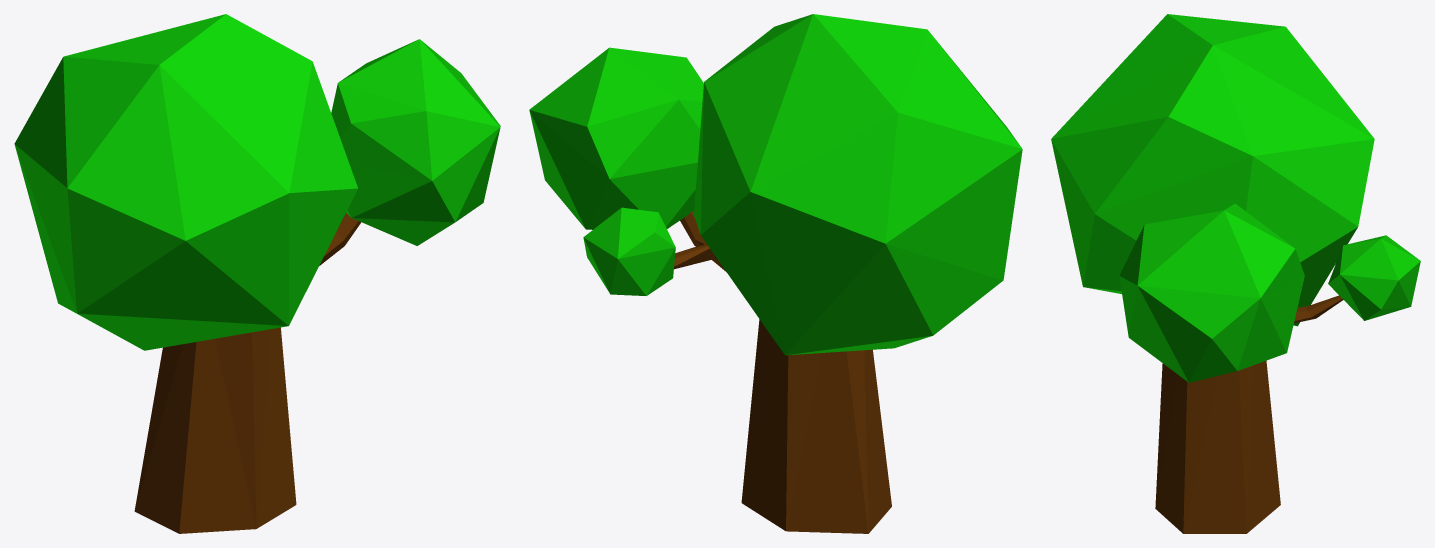
File: TreeModel1.fbx
The picture shows the model from 3 angles, left to right: view 1: azimuth 30°, elevation 25°; view 2: azimuth 150°, elevation 25°; view 3: azimuth 270°, elevation 25°; orthographic projection. The views are drawn at different scales.
Visible parts, largest first — view 1: tree2; view 2: tree2; view 3: tree2.
Boxes of the visible parts, x1,y1,x2,y2 form: tree2: (14,14,500,533); tree2: (529,14,1022,533); tree2: (1051,14,1420,533).
Bounding box in the file's own units: 3.92 × 4.02 × 2.91.
